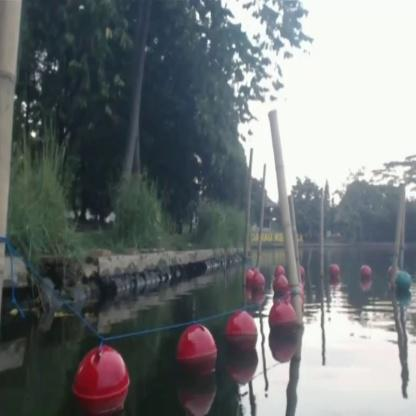green_buoy: (396, 270, 410, 298)
red_buoy: (74, 346, 125, 414), (182, 326, 214, 380), (267, 303, 296, 344), (227, 314, 252, 358), (356, 264, 372, 283), (272, 279, 287, 297), (255, 277, 266, 298), (328, 264, 339, 283), (246, 270, 256, 288), (271, 269, 284, 282), (300, 268, 304, 282)
